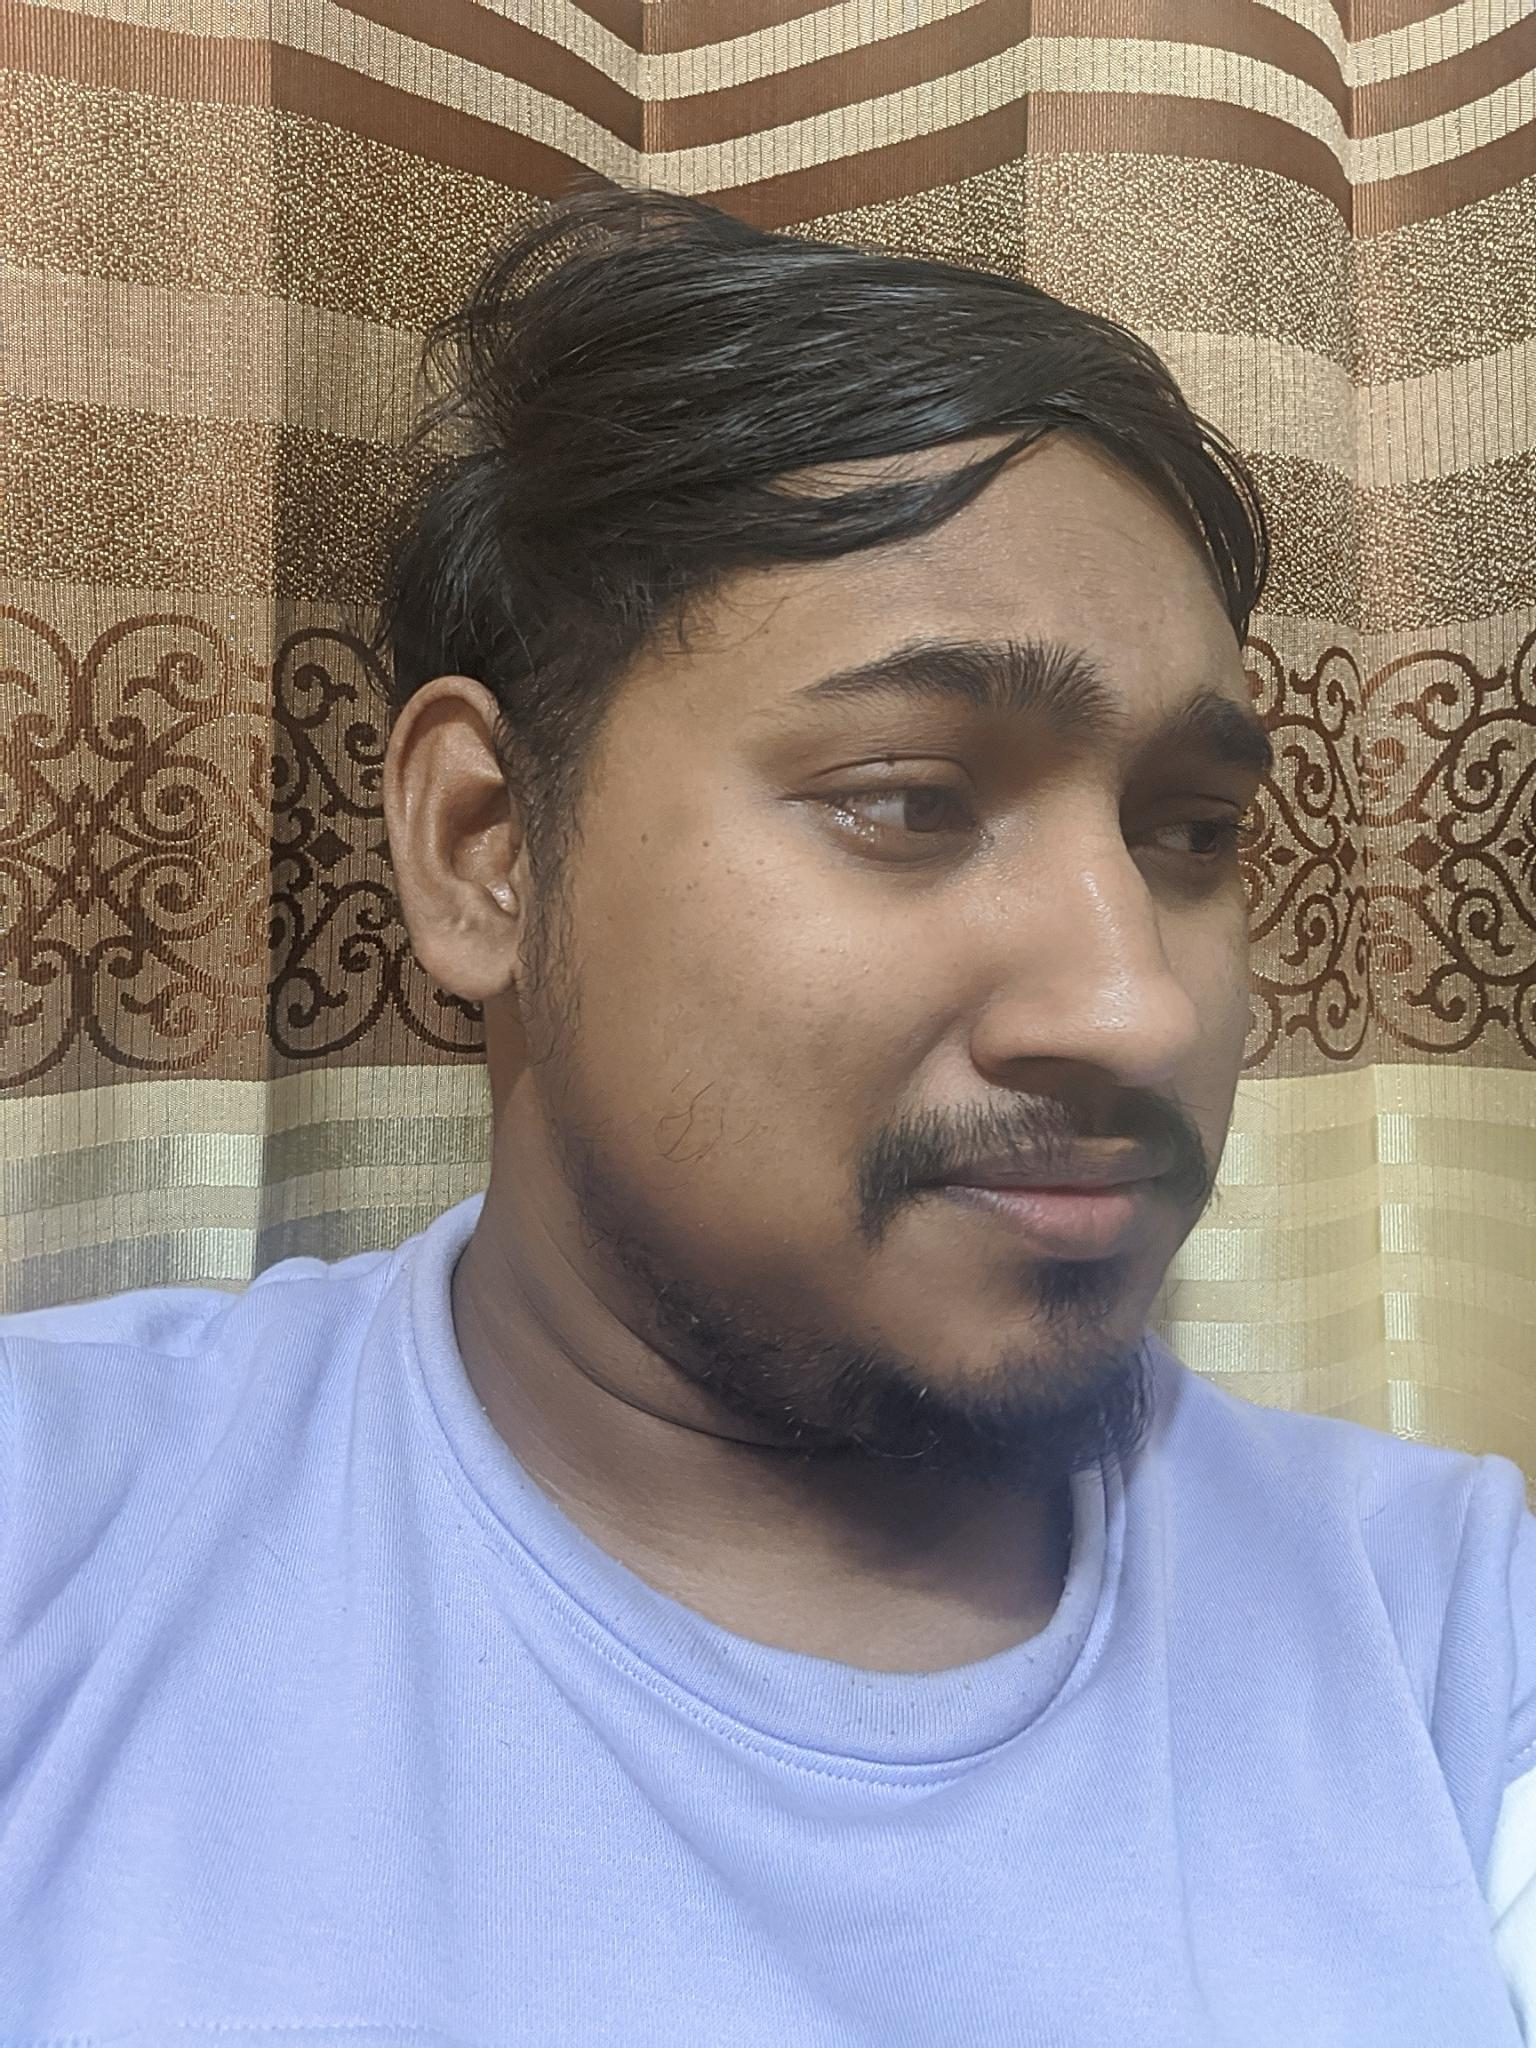Sad: (671, 561, 1321, 1421)
